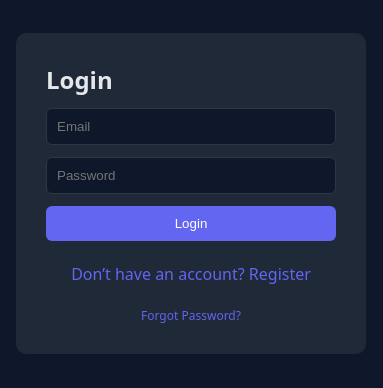
Scenario: Login Component › Form Validation › should show error when email is empty
Type "password123" into the password field with placeholder "Password".
click(191, 175); type("password123")  # box [46, 156, 336, 194]
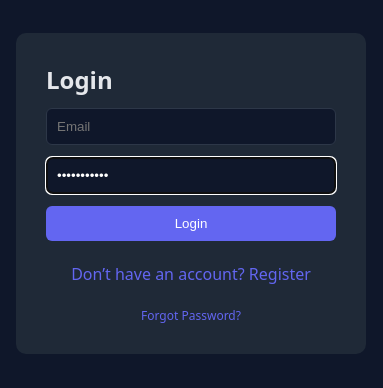
Click the button "Login".
click(191, 223)  # box [46, 206, 336, 240]
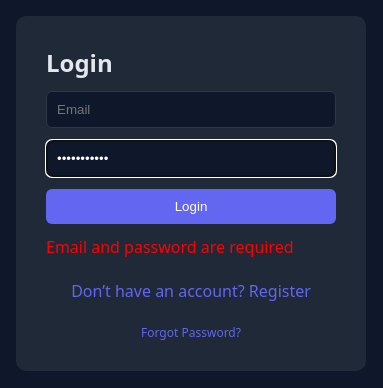
Check: the text "Email and password are required" is shown, box [46, 236, 336, 258]
